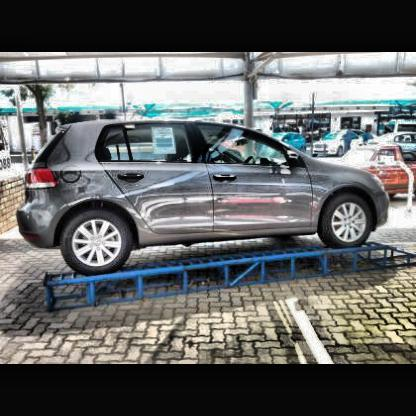Volkswagen Golf Hatchback 2012: (19, 120, 392, 278)
